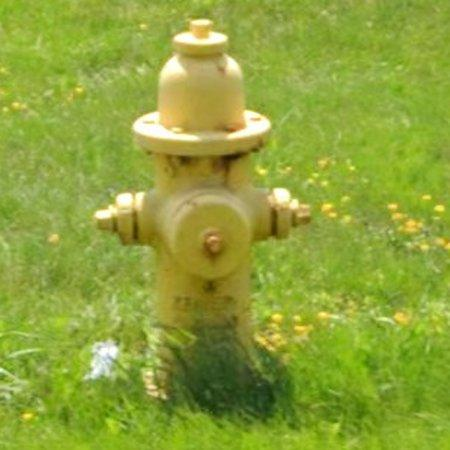a fire hydrant: (96, 19, 310, 328)
